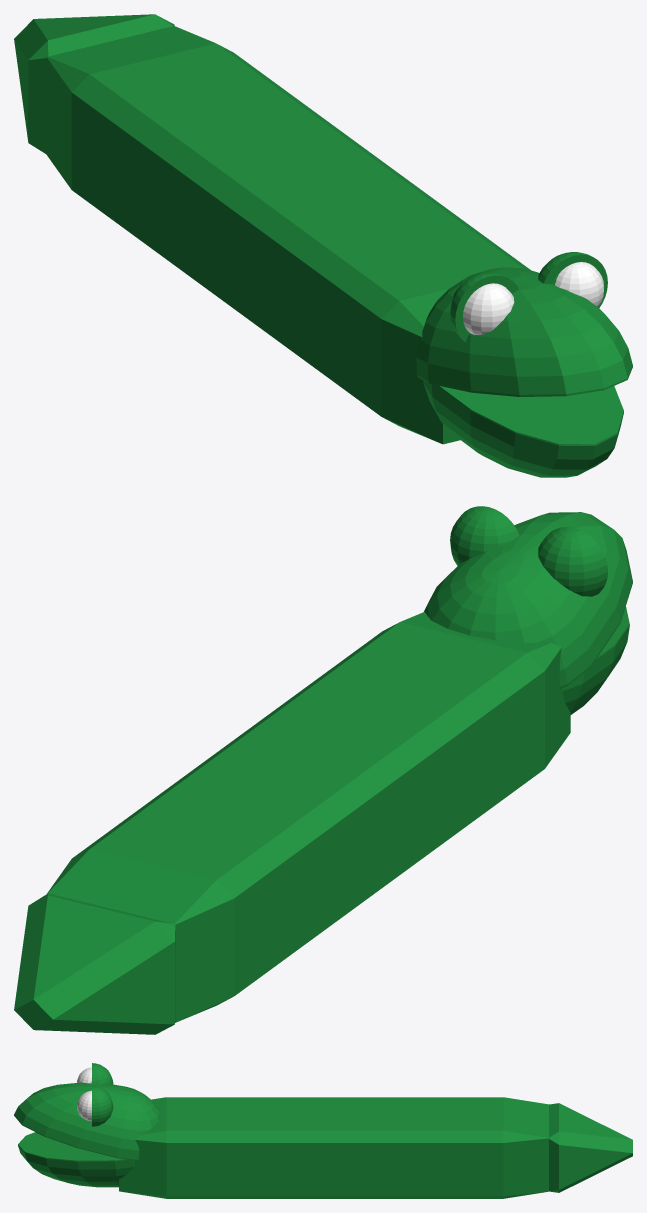
Rendered from змей раздельный1.fbx.
The picture shows the model from 3 angles, top to bottom: view 1: azimuth 30°, elevation 25°; view 2: azimuth 150°, elevation 25°; view 3: azimuth 270°, elevation 25°; orthographic projection. The views are drawn at different scales.
Parts seen in each view (by area): view 1: тело, голова, хвост; view 2: тело, голова, хвост; view 3: тело, голова, хвост.
Part boxes in pixels (x1,y1,x2,y2): тело: [46, 25, 530, 444]; голова: [416, 252, 632, 477]; хвост: [14, 14, 174, 154]; тело: [46, 612, 570, 1022]; голова: [424, 506, 632, 714]; хвост: [14, 893, 175, 1034]; тело: [119, 1097, 549, 1198]; голова: [14, 1063, 160, 1187]; хвост: [549, 1103, 632, 1192].
Bounding box in the file's own units: 94.61 × 110 × 575.
